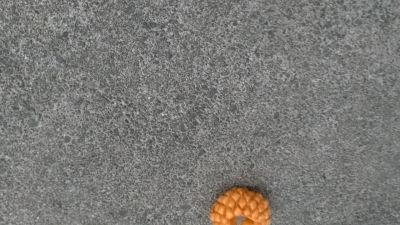eggs: (211, 186, 274, 225)
